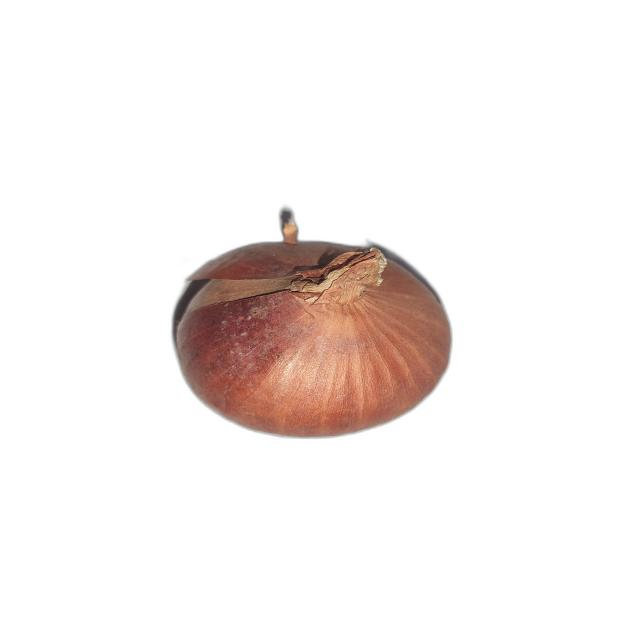onion: (175, 221, 454, 439)
